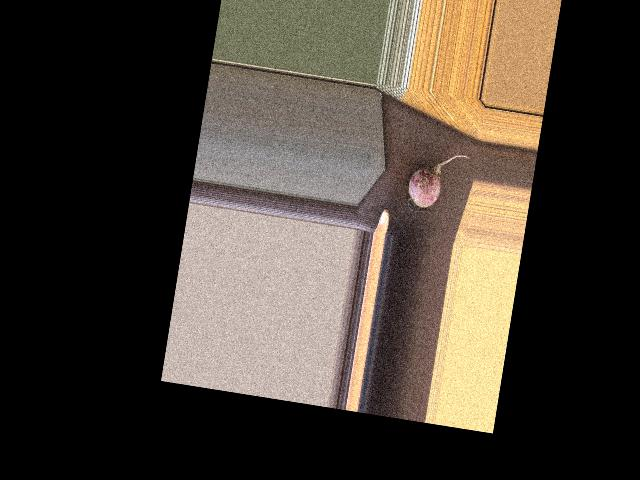beet: (404, 147, 468, 223)
